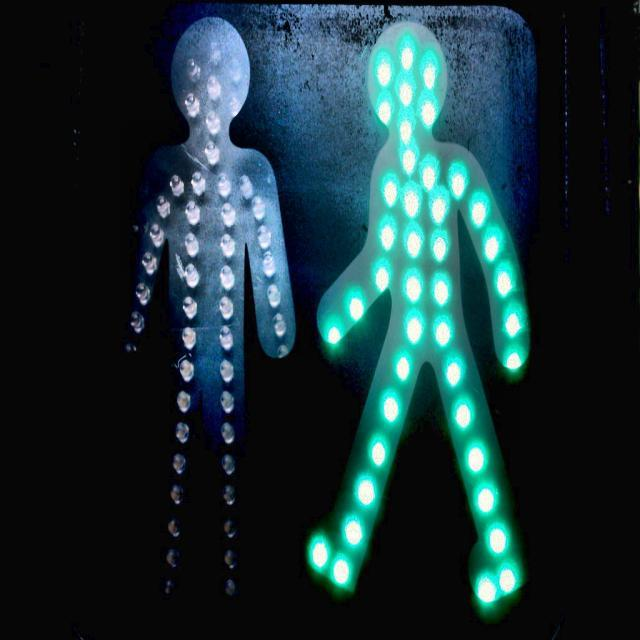green_light: (302, 14, 532, 614)
